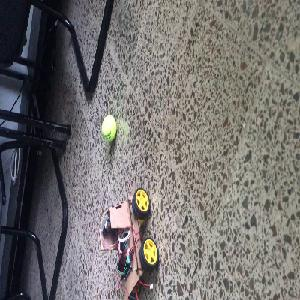Ball: (100, 116, 116, 142)
Robot: (99, 181, 159, 298)
